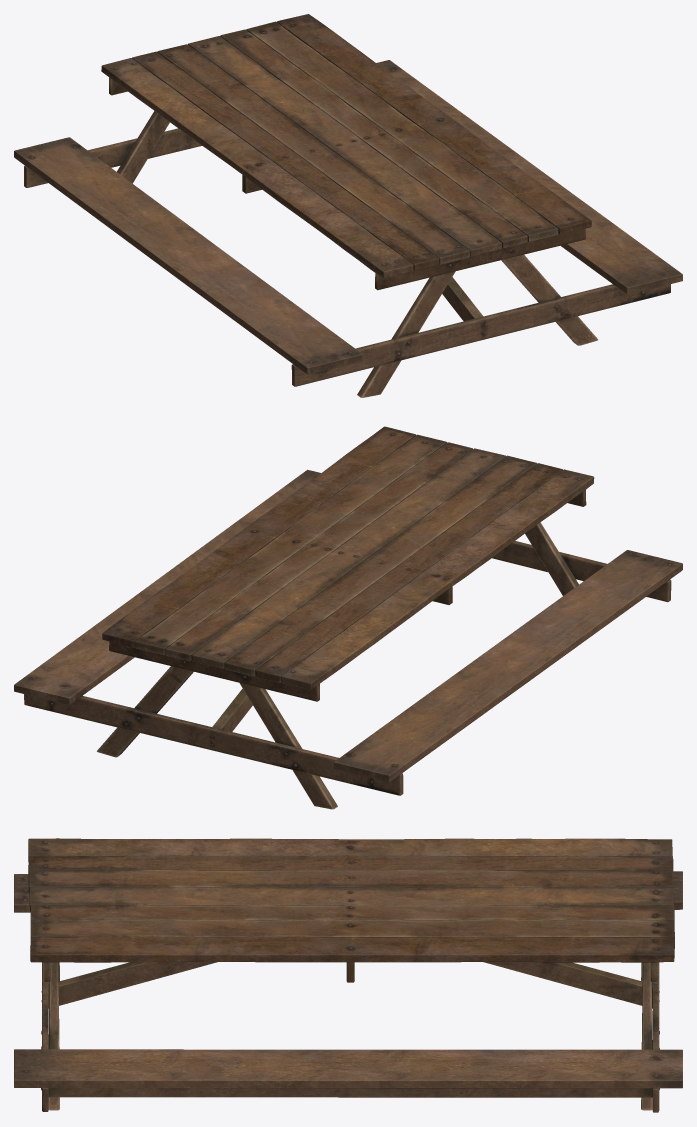
The model's file is modell.gltf.
3 views of the same model, one above another, from view 1: azimuth 30°, elevation 25°; view 2: azimuth 150°, elevation 25°; view 3: azimuth 270°, elevation 25° (orthographic). The views are drawn at different scales.
Parts seen in each view (by area): view 1: wooden_picnic_table; view 2: wooden_picnic_table; view 3: wooden_picnic_table.
Boxes of the visible parts, x1,y1,x2,y2 form: wooden_picnic_table: (14, 14, 682, 397); wooden_picnic_table: (14, 426, 682, 809); wooden_picnic_table: (14, 838, 682, 1112).
Bounding box in the file's own units: 2.24 × 0.746 × 3.02.
2 materials, 2 textured.
